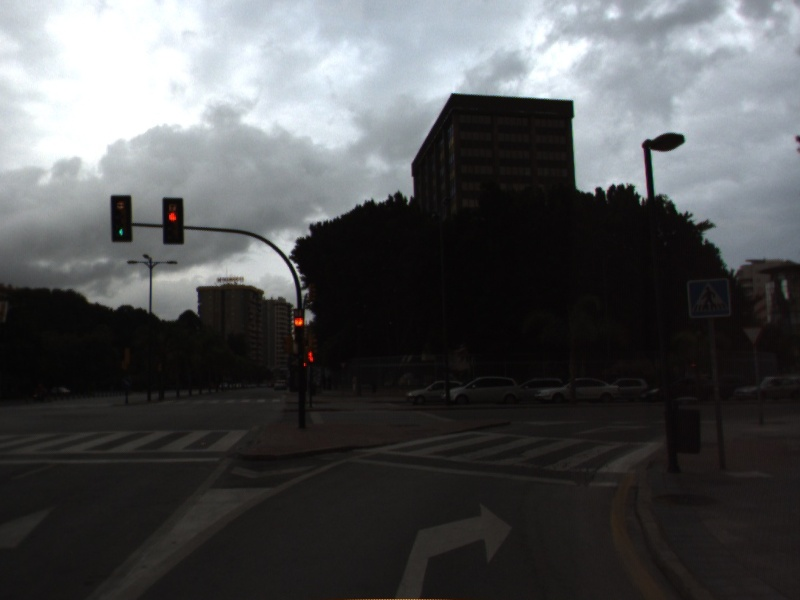RIGHT: (392, 496, 519, 600)
